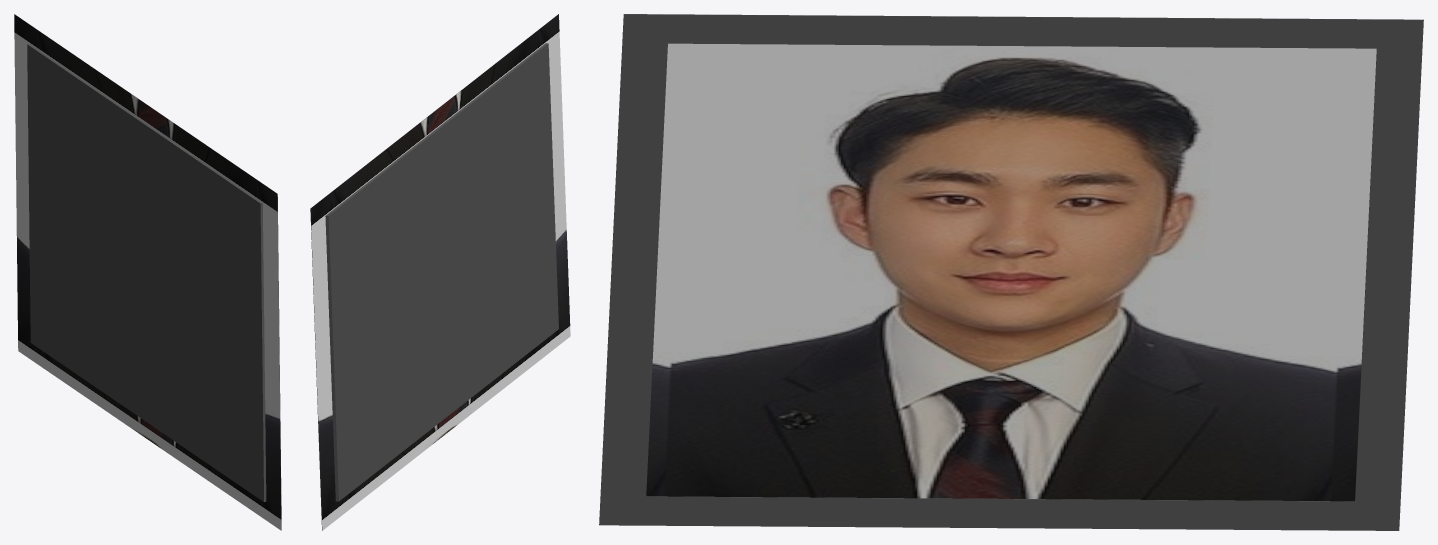
File: 65a13dc4-e5aa-4bea-b9b8-041204466ad3.glb
3 renders of one model, left to right at view 1: azimuth 30°, elevation 25°; view 2: azimuth 150°, elevation 25°; view 3: azimuth 270°, elevation 25°, orthographic. The views are drawn at different scales.
Visible parts, largest first — view 1: Cube001; view 2: Cube001; view 3: Cube001.
Boxes of the visible parts, <box> form: Cube001: <box>14,14,281,530</box>; Cube001: <box>310,14,570,530</box>; Cube001: <box>599,14,1423,530</box>.
Bounding box in the file's own units: 0.2237 × 5.69 × 8.11.
Materials: 2 (1 with a texture image).
